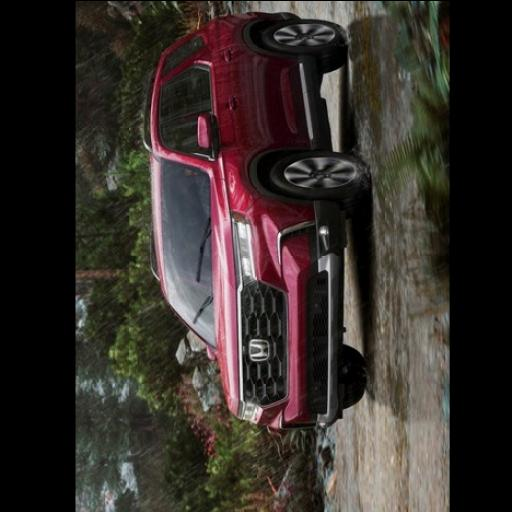sedan: (143, 13, 370, 429)
